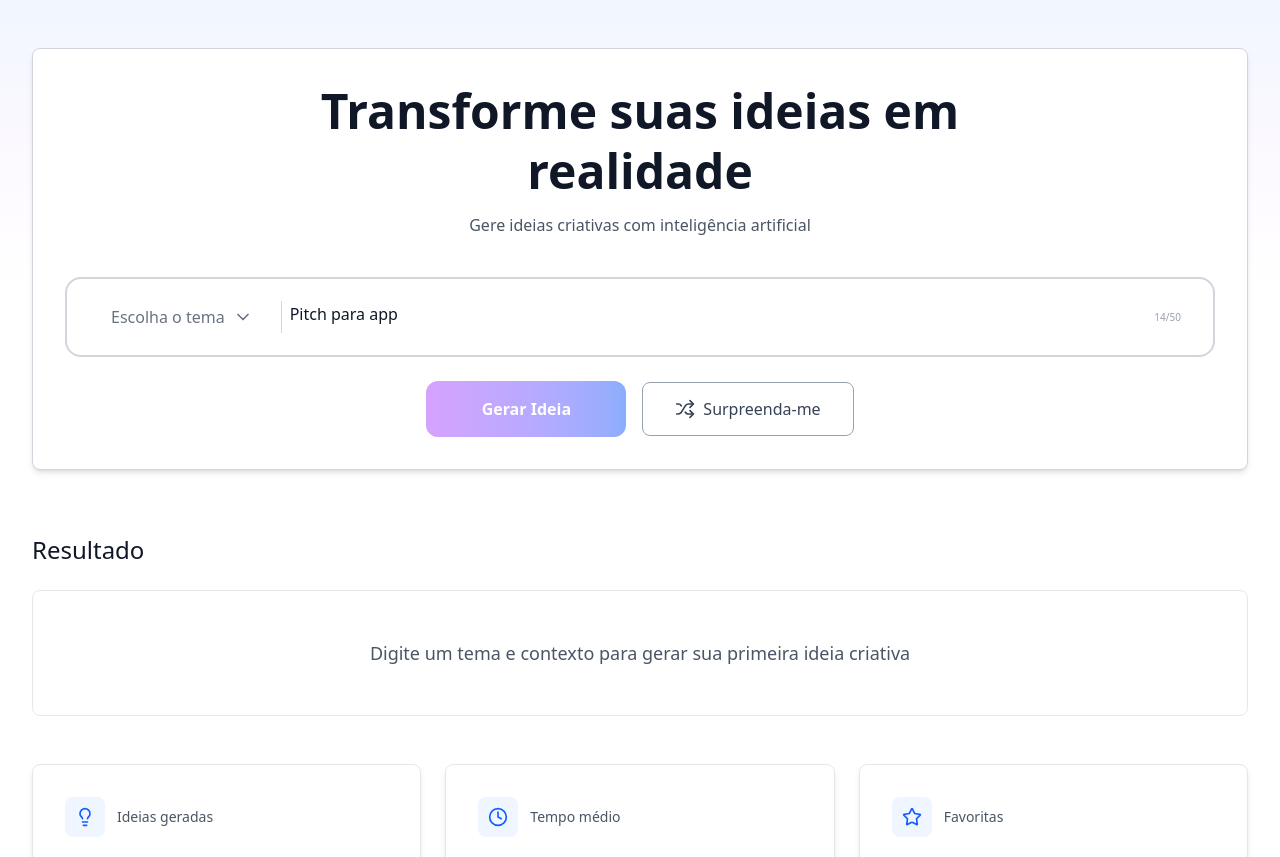
GeneratorPage › gera uma ideia quando tema e contexto são preenchidos
Click the button "Escolha o tema".
click(182, 317)  # box [91,295,273,339]
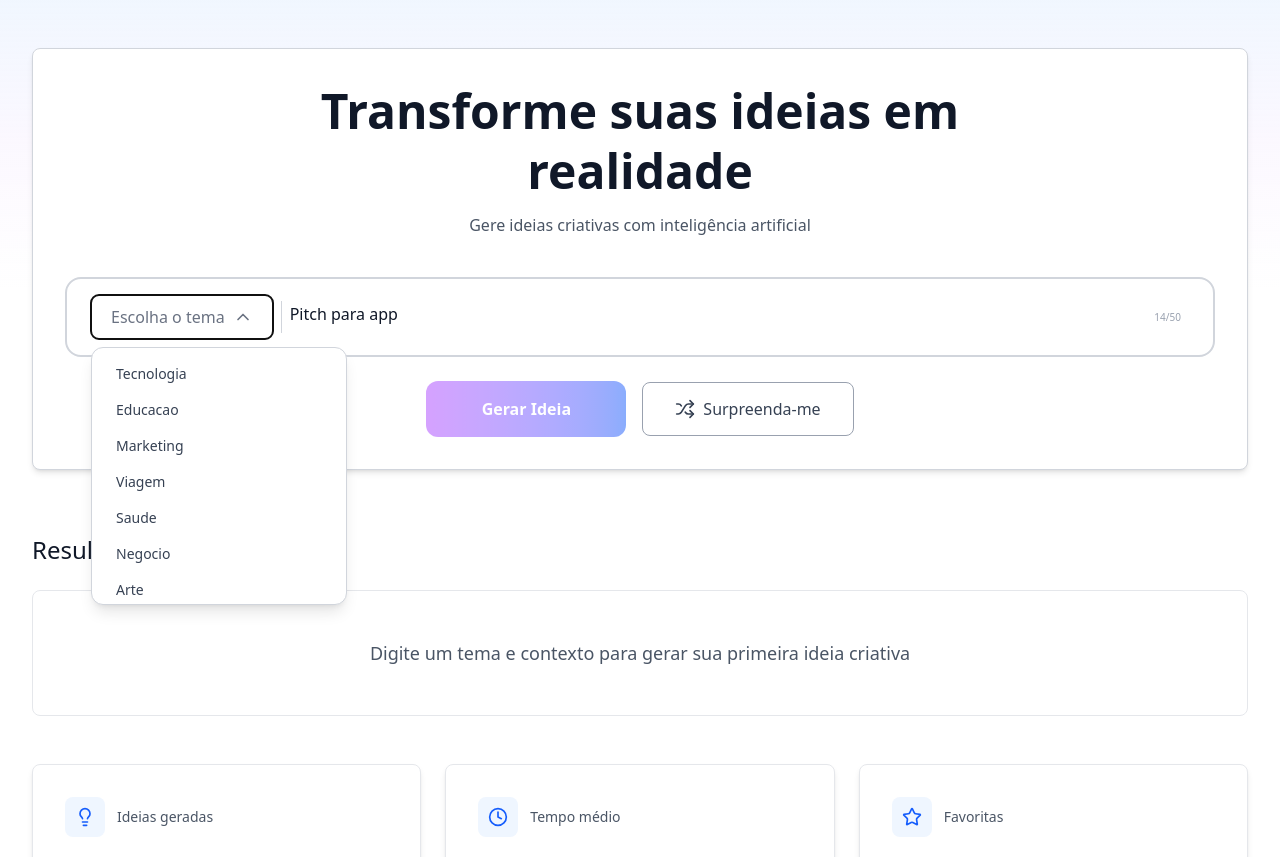
Click the button "Tecnologia".
click(219, 374)  # box [100,356,338,392]
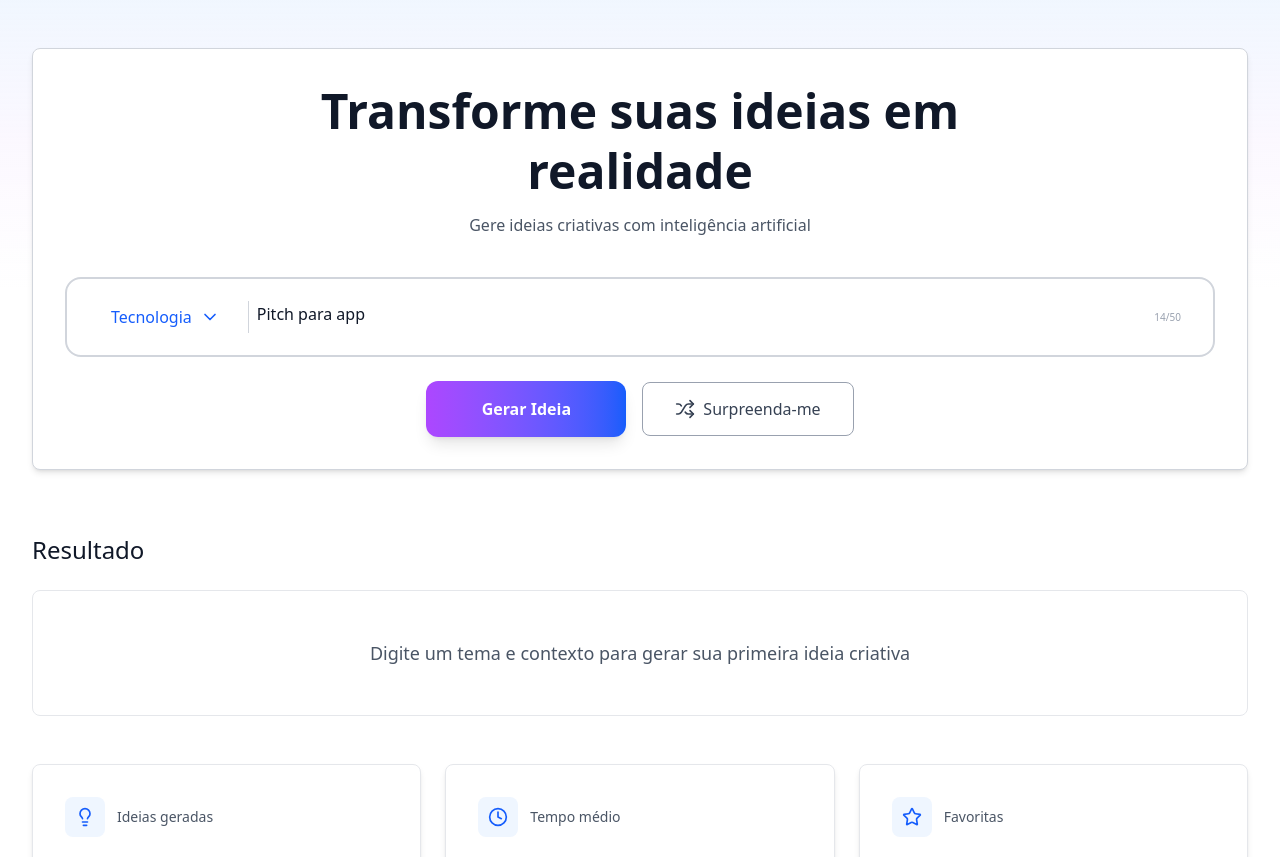
Expected: the button "Gerar Ideia" is enabled
Click the button "Gerar Ideia".
click(526, 409)  # box [426,381,626,437]
(page scrolled)
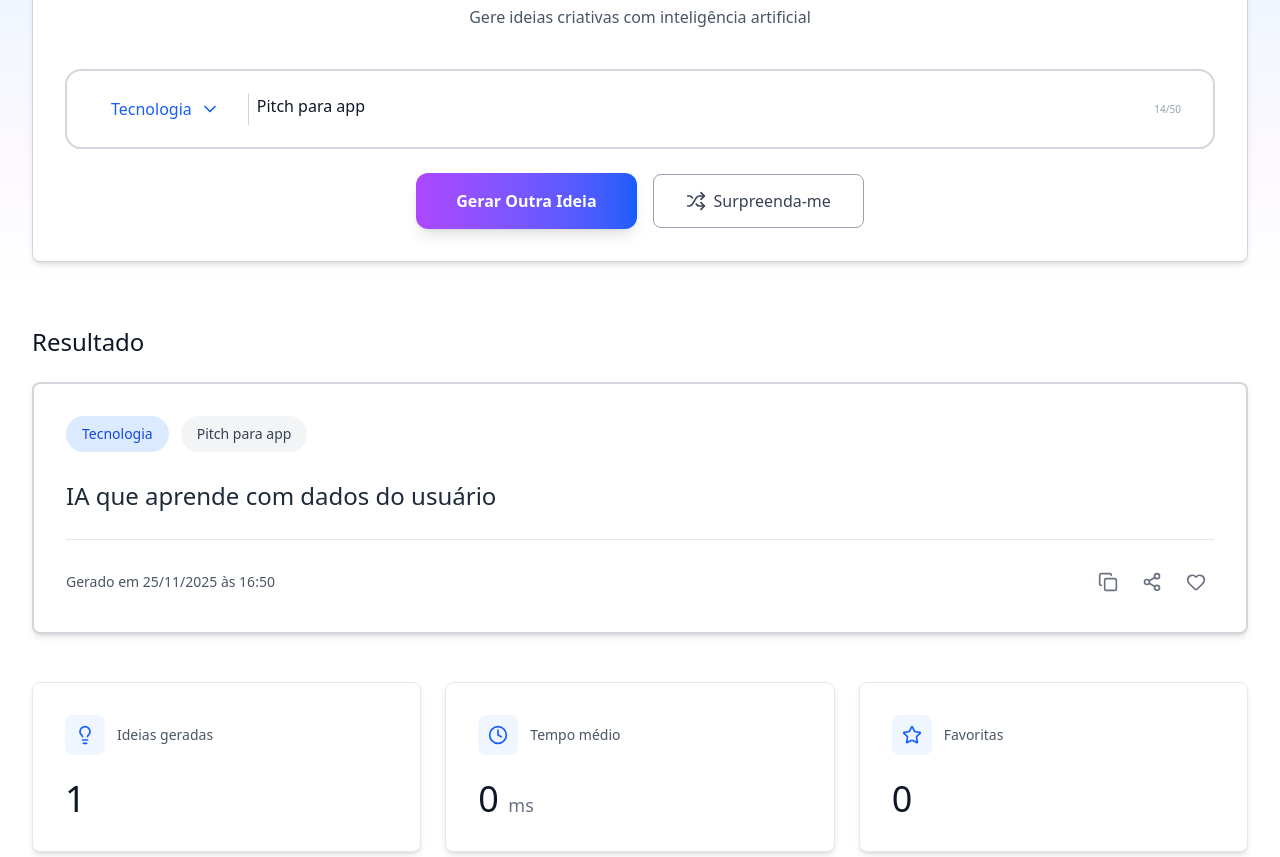
Expected: the text "0" is shown, [892,774,912,823]
Expected: the text "IA que aprende com dados do usuário" is shown, [66,479,496,512]
Expected: the text "1" is shown, [65,774,86,823]
